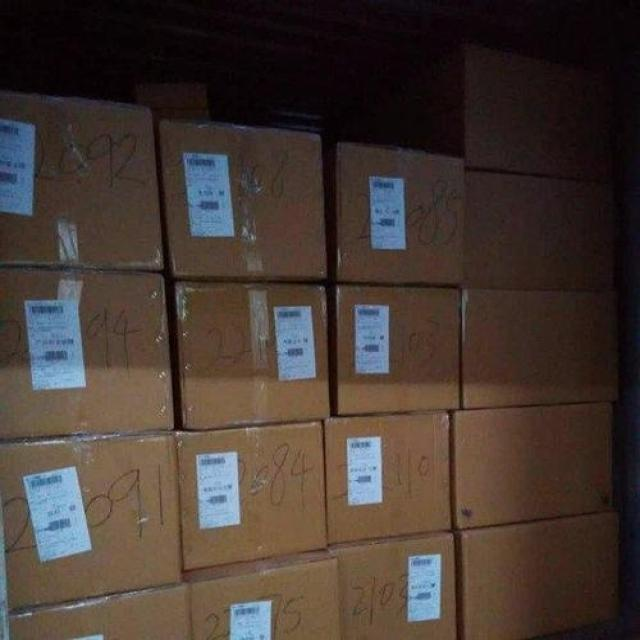box: (0, 431, 183, 609), (0, 267, 175, 441), (0, 89, 165, 270), (159, 117, 329, 280), (174, 281, 330, 433), (177, 420, 326, 570), (456, 511, 620, 640), (452, 402, 613, 530), (463, 44, 614, 179), (461, 288, 620, 409), (334, 140, 466, 283), (465, 172, 616, 288), (325, 411, 453, 545), (334, 286, 462, 416), (183, 550, 340, 640), (330, 531, 457, 640), (10, 584, 188, 640)
